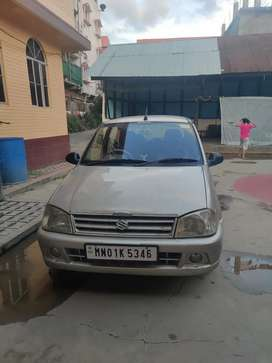MN01K5346: (85, 243, 157, 261)
